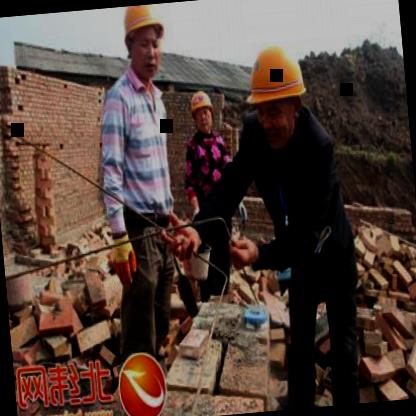helmet: (240, 33, 315, 151), (116, 3, 175, 87), (186, 87, 218, 136)
